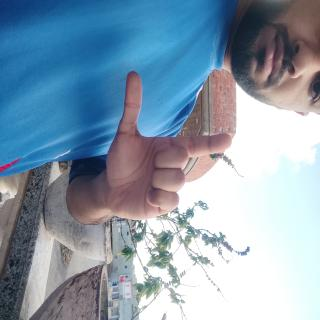LAAM: (49, 111, 168, 305)
